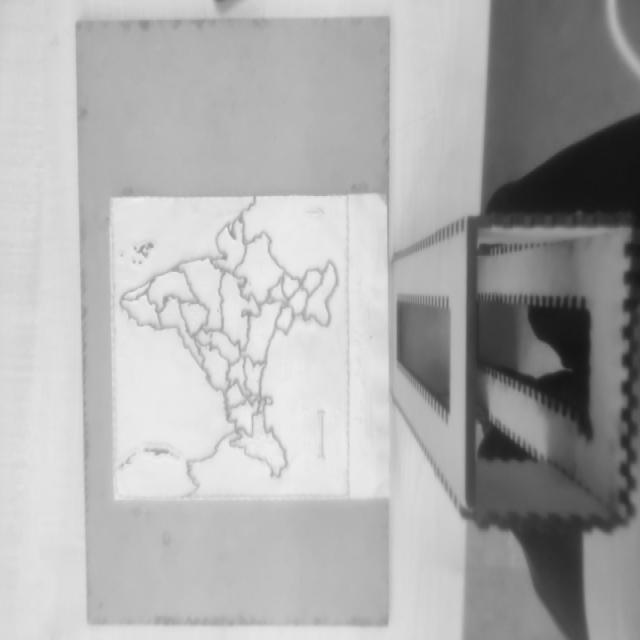map: (110, 195, 348, 499)
